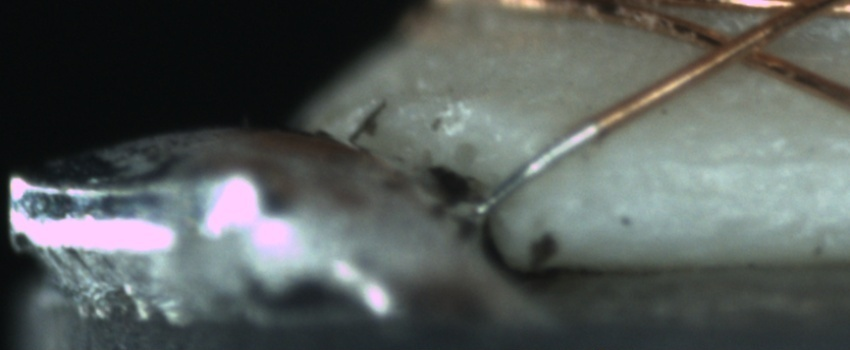CL: (686, 16, 790, 77)
DL: (675, 127, 849, 184)
TS: (481, 120, 602, 214)
TTCW: (477, 92, 648, 211)
